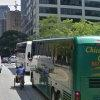Bus: (10, 33, 100, 100)
